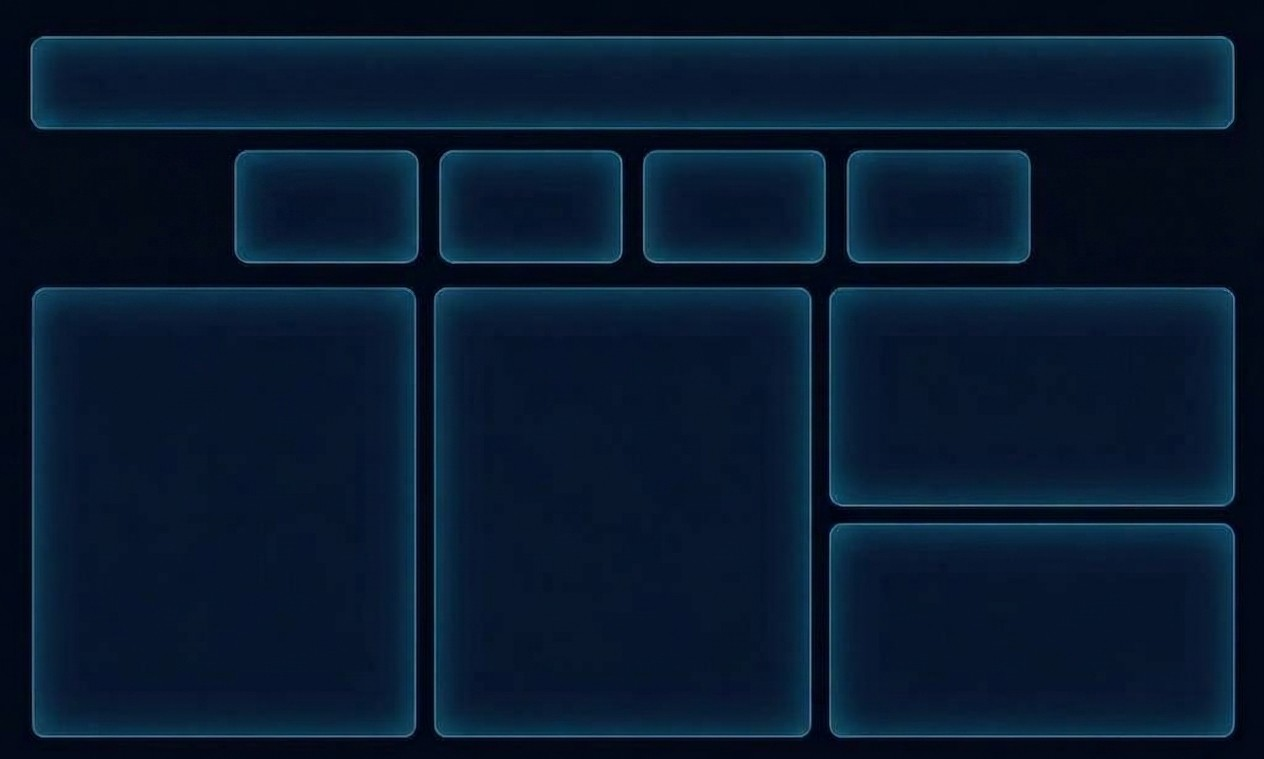

What the dashboard file says about the page in this screenshot:
{"tool":"powerbi","page":{"name":"Page 1","canvas":[1920,1080],"ordinal":0},"visuals":[{"type":"cardVisual","fields":{"Data":["Measure.Total Shipments"]},"box":[58.4,288,260,170],"z":0},{"type":"cardVisual","fields":{"Data":["Measure.On-Time Delivery Rate"]},"box":[352,288,282,170],"z":1000},{"type":"cardVisual","fields":{"Data":["Measure.Total Capital in Pipeline"]},"box":[676,288,262,170],"z":2000},{"type":"cardVisual","fields":{"Data":["Measure.Avg Customer Rating"]},"box":[984,288,260,170],"z":3000},{"type":"cardVisual","fields":{"Data":["Measure.Total Prior Purchases"]},"box":[1292,288,260,170],"z":4000},{"type":"cardVisual","fields":{"Data":["Measure.Total Support Calls"]},"box":[1610,288,260,170],"z":5000},{"type":"donutChart","title":"Overall Delivery Performance Breakdowns","fields":{"Category":["Fact_Shipment.Delivery Status"],"Y":["CountNonNull(Fact_Shipment.Delivery Status)"]},"box":[58,520,576,502],"z":6000},{"type":"clusteredColumnChart","title":"Warehouse Delivery Status","fields":{"Category":["Dim_Warehouse.Warehouse_block"],"Series":["Fact_Shipment.Delivery Status"],"Y":["Measure.Total Shipments"]},"box":[1292,520,578,502],"z":7000},{"type":"pivotTable","title":"Logistics by Priority","fields":{"Columns":["Dim_Product.Product_importance"],"Rows":["Fact_Shipment.Mode_of_Shipment"],"Values":["Measure.Total Shipments"]},"box":[676,520,568,502],"z":8000},{"type":"textbox","box":[18,50,1902,170],"z":8001}]}

Visuals, with their boxes on the page's 1920x1080 design canvas (x1, y1, x2, y2). These are canvas units, not pixel positions in the 1264x759 screenshot, which may show the page scaled, cropped or inside an application window:
cardVisual - Measure.Total Shipments: detection(58, 288, 318, 458)
cardVisual - Measure.On-Time Delivery Rate: detection(352, 288, 634, 458)
cardVisual - Measure.Total Capital in Pipeline: detection(676, 288, 938, 458)
cardVisual - Measure.Avg Customer Rating: detection(984, 288, 1244, 458)
cardVisual - Measure.Total Prior Purchases: detection(1292, 288, 1552, 458)
cardVisual - Measure.Total Support Calls: detection(1610, 288, 1870, 458)
"Overall Delivery Performance Breakdowns" donutChart: detection(58, 520, 634, 1022)
"Warehouse Delivery Status" clusteredColumnChart: detection(1292, 520, 1870, 1022)
"Logistics by Priority" pivotTable: detection(676, 520, 1244, 1022)
textbox: detection(18, 50, 1920, 220)
